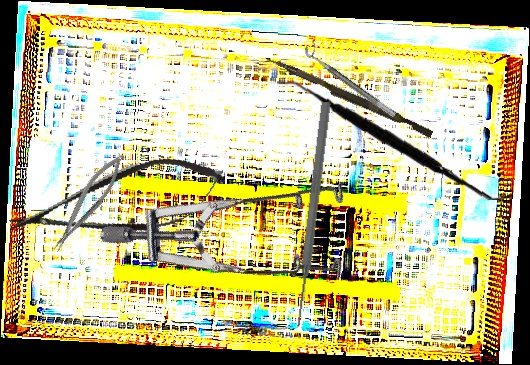Fixation Ring: (301, 39, 403, 119)
Micro Scissor: (3, 145, 232, 260)
Needle Holder: (43, 148, 133, 256)
Pusher: (263, 56, 436, 138), (291, 100, 333, 330)
Spatula Surgical: (276, 68, 513, 211)
Speculum: (97, 87, 383, 358)
